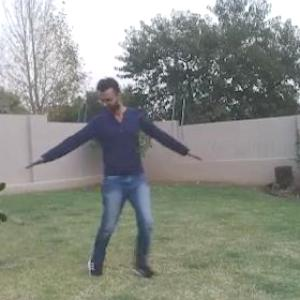land: (29, 83, 197, 269)
